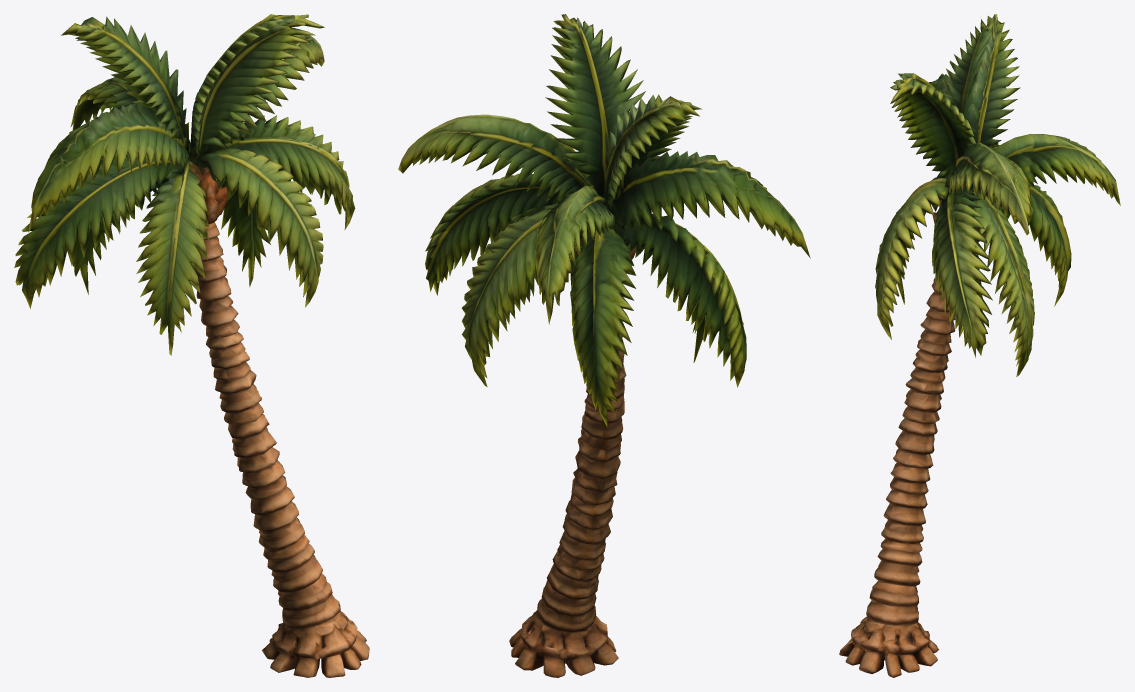
Rendered from tree-palm.glb.
3 renders of one model, left to right at view 1: azimuth 30°, elevation 25°; view 2: azimuth 150°, elevation 25°; view 3: azimuth 270°, elevation 25°, orthographic. The views are drawn at different scales.
Visible parts, largest first — view 1: tripo_part_1, tripo_part_4, tripo_part_11, tripo_part_2, tripo_part_5, tripo_part_10, tripo_part_12, tripo_part_6, tripo_part_3, tripo_part_8, tripo_part_7, tripo_part_13 (+1 smaller); view 2: tripo_part_1, tripo_part_5, tripo_part_2, tripo_part_9, tripo_part_4, tripo_part_3, tripo_part_8, tripo_part_6, tripo_part_7, tripo_part_12; view 3: tripo_part_1, tripo_part_6, tripo_part_12, tripo_part_2, tripo_part_8, tripo_part_7, tripo_part_3, tripo_part_10, tripo_part_9, tripo_part_11.
Part boxes in pixels (bbox=[...]): tripo_part_1: bbox=[192, 222, 369, 677]; tripo_part_4: bbox=[14, 156, 183, 308]; tripo_part_11: bbox=[136, 158, 209, 355]; tripo_part_2: bbox=[189, 14, 324, 165]; tripo_part_5: bbox=[28, 102, 189, 232]; tripo_part_10: bbox=[196, 147, 323, 307]; tripo_part_12: bbox=[61, 16, 189, 151]; tripo_part_6: bbox=[224, 115, 355, 229]; tripo_part_3: bbox=[197, 35, 324, 166]; tripo_part_8: bbox=[189, 158, 270, 287]; tripo_part_7: bbox=[70, 77, 190, 158]; tripo_part_13: bbox=[189, 161, 228, 224]; tripo_part_1: bbox=[509, 336, 626, 677]; tripo_part_5: bbox=[607, 151, 810, 258]; tripo_part_2: bbox=[545, 14, 646, 206]; tripo_part_9: bbox=[570, 227, 636, 426]; tripo_part_4: bbox=[613, 213, 746, 387]; tripo_part_3: bbox=[398, 114, 600, 204]; tripo_part_8: bbox=[462, 209, 587, 386]; tripo_part_6: bbox=[425, 173, 560, 295]; tripo_part_7: bbox=[535, 185, 614, 324]; tripo_part_12: bbox=[604, 94, 702, 208]; tripo_part_1: bbox=[839, 277, 955, 677]; tripo_part_6: bbox=[932, 185, 992, 357]; tripo_part_12: bbox=[939, 14, 1020, 146]; tripo_part_2: bbox=[890, 73, 976, 188]; tripo_part_8: bbox=[971, 188, 1034, 376]; tripo_part_7: bbox=[972, 134, 1120, 205]; tripo_part_3: bbox=[949, 142, 1031, 234]; tripo_part_10: bbox=[875, 182, 949, 339]; tripo_part_9: bbox=[986, 184, 1071, 306]; tripo_part_11: bbox=[895, 177, 946, 304].
Bounding box in the file's own units: 0.5672 × 0.9828 × 0.4408.
Materials: 13 (13 with a texture image).
